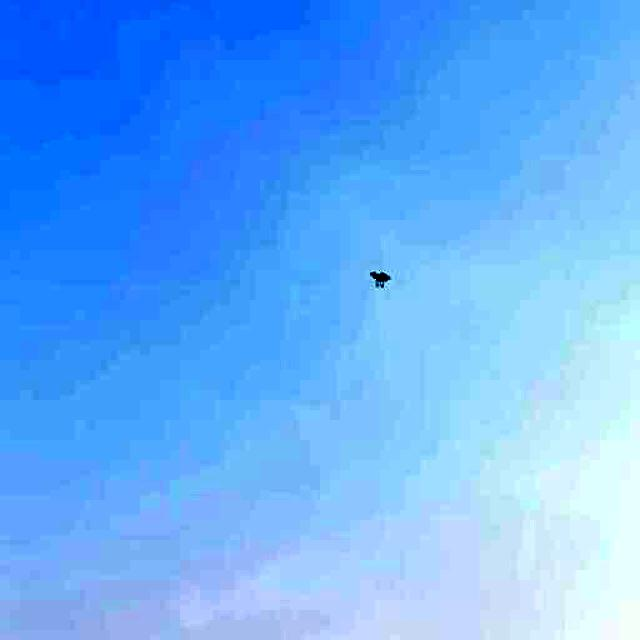bird: (369, 266, 394, 291)
